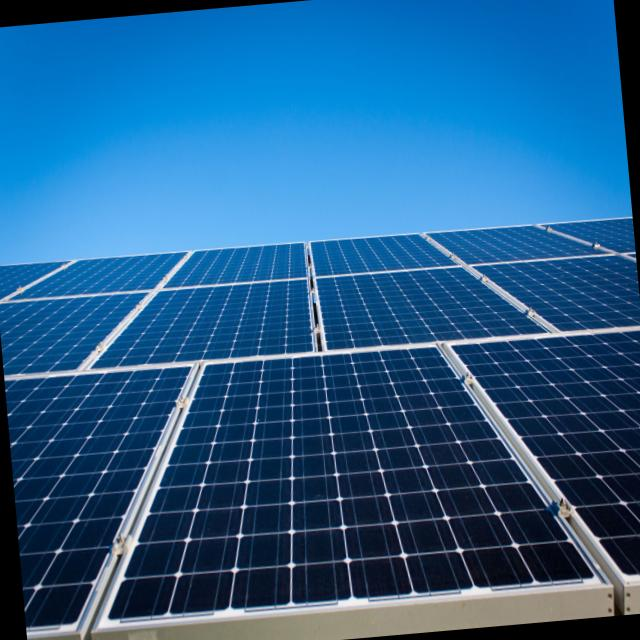no faulty: (0, 214, 640, 623)
